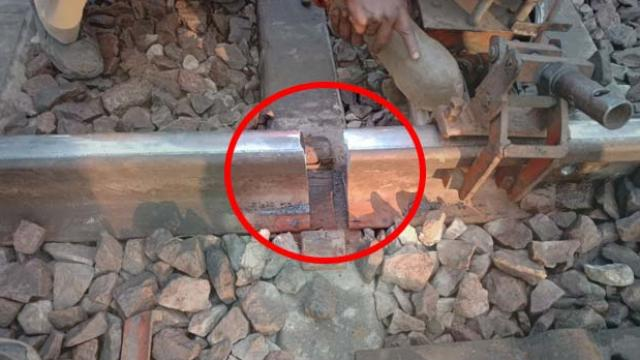crack: (266, 102, 389, 236)
track: (26, 99, 202, 247)
